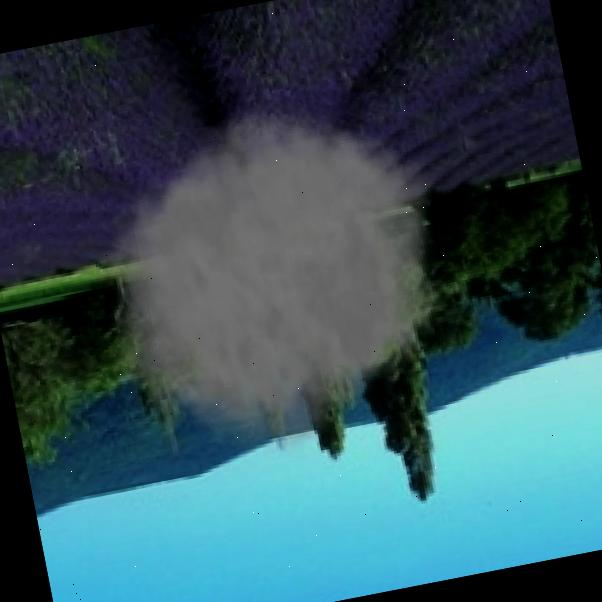smoke: (67, 63, 493, 492)
